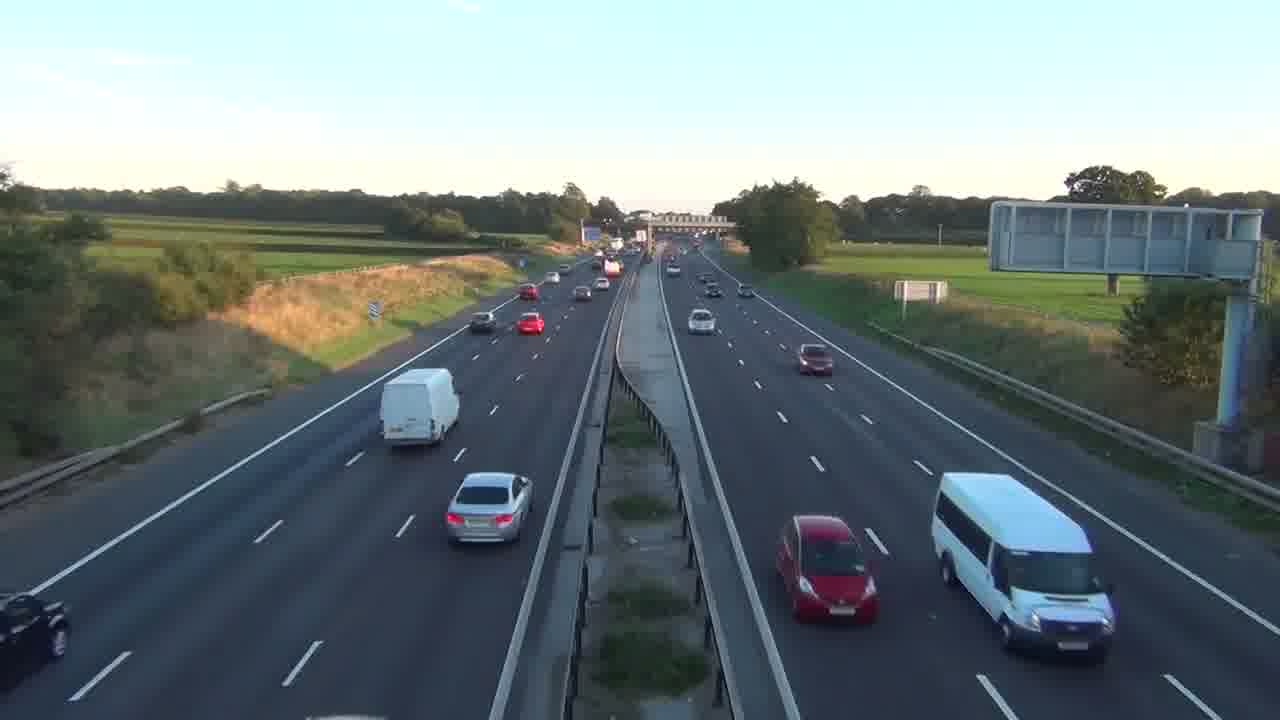car: (774, 513, 888, 626), (443, 470, 534, 546), (0, 590, 71, 672), (797, 343, 834, 377), (688, 307, 716, 335), (514, 312, 544, 336)
truck: (929, 470, 1120, 664), (379, 366, 461, 448)
